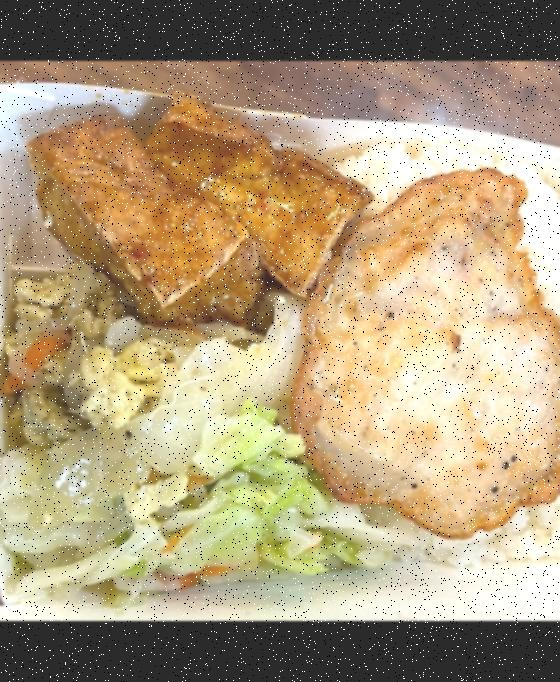big grilled chicken leg: (0, 79, 560, 609)
big herbal chicken leg: (312, 133, 560, 568)
braised fish fillet: (0, 303, 348, 607), (36, 106, 366, 318), (3, 282, 199, 444)
braised pork: (296, 169, 560, 532)
